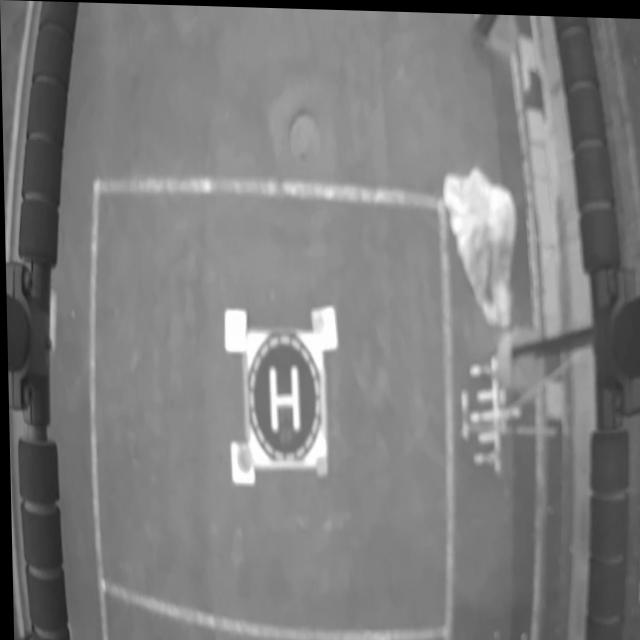Helipad: (268, 365, 299, 431)
